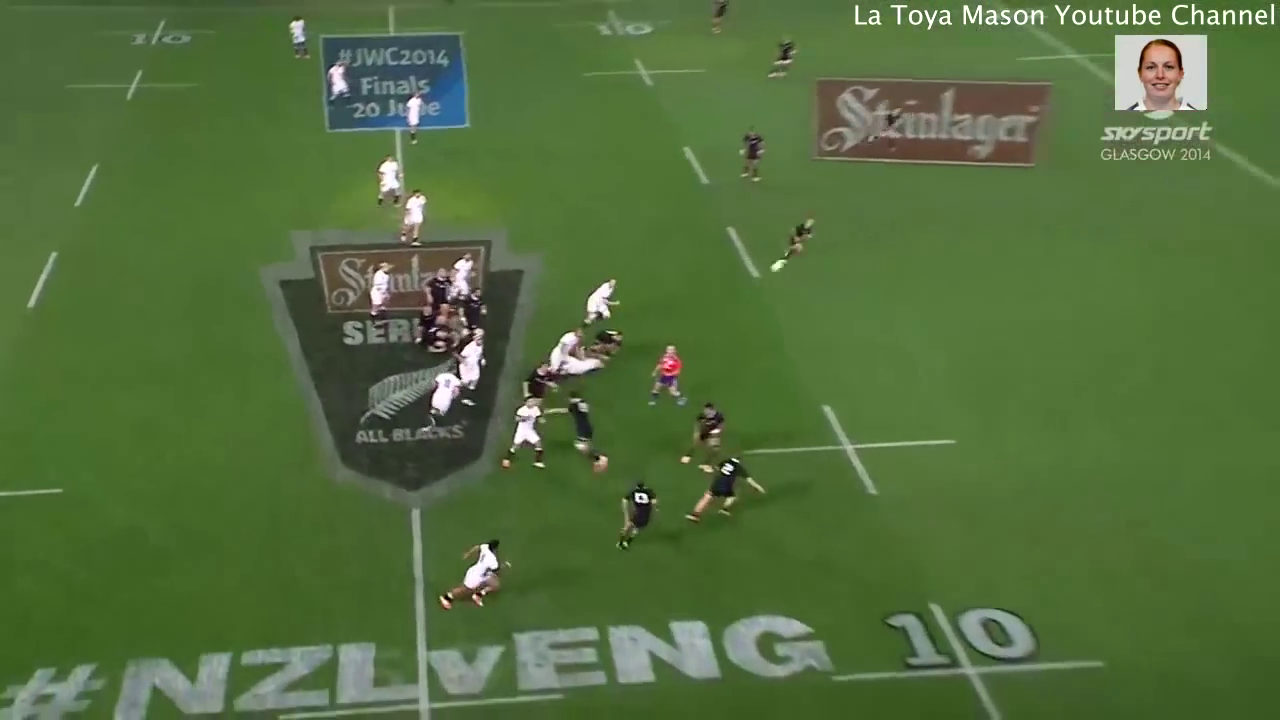10_metre: (817, 583, 1121, 720), (735, 395, 965, 502), (65, 62, 207, 105), (573, 51, 708, 95), (90, 9, 223, 52), (560, 6, 688, 41)
ball: (766, 252, 786, 276)
player: (679, 444, 773, 538), (763, 206, 826, 294), (546, 391, 614, 472), (676, 395, 731, 473), (498, 393, 553, 470), (644, 334, 693, 417), (572, 270, 626, 337), (415, 361, 465, 427), (450, 327, 490, 407), (393, 181, 437, 251), (732, 123, 777, 187), (362, 149, 409, 209), (539, 324, 585, 383), (761, 32, 804, 92), (869, 98, 908, 156), (421, 261, 456, 316), (282, 13, 313, 67), (587, 317, 633, 353), (445, 248, 477, 299), (323, 52, 353, 106), (402, 87, 427, 148), (365, 261, 390, 320), (410, 318, 453, 349), (521, 360, 554, 398), (457, 282, 485, 326), (708, 1, 732, 39)
